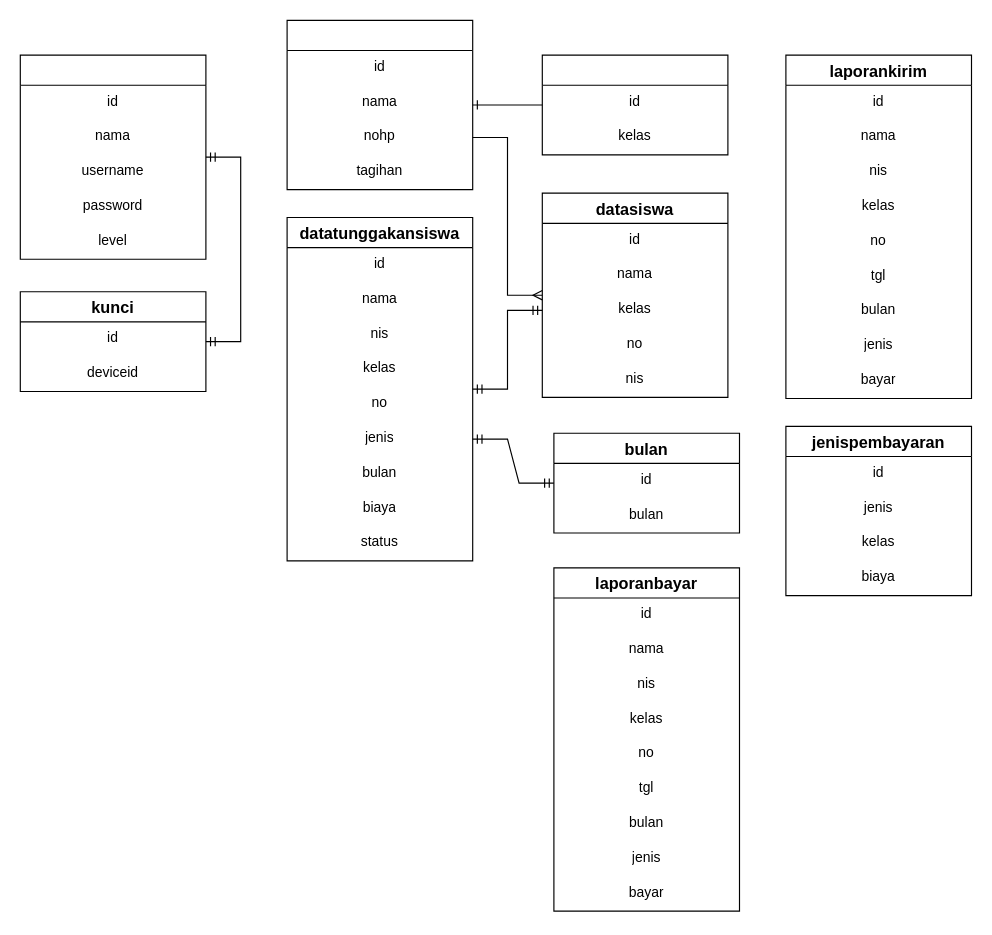
Image size: 992x935. Some labels were removed from this diagram. Each missing label, with the box of its shape:
datakelas: (541, 54, 728, 155)
datauser: (19, 54, 206, 259)
kelas1: (286, 19, 473, 190)
